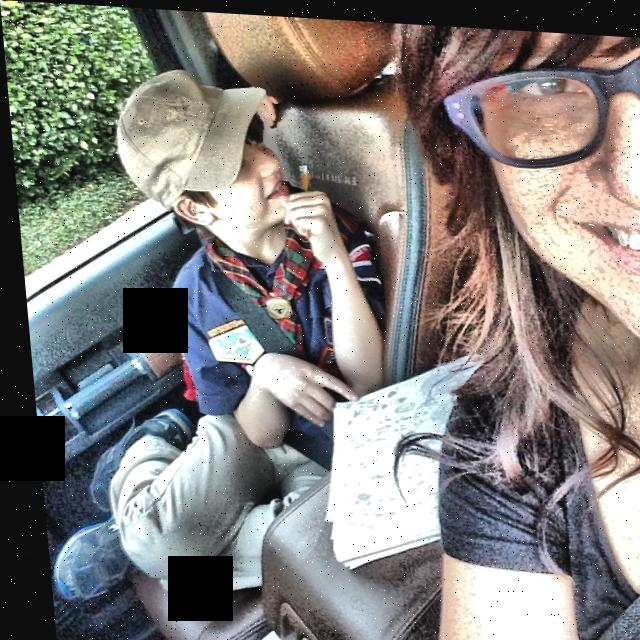seatbelt: (168, 216, 326, 424), (559, 522, 640, 640)
